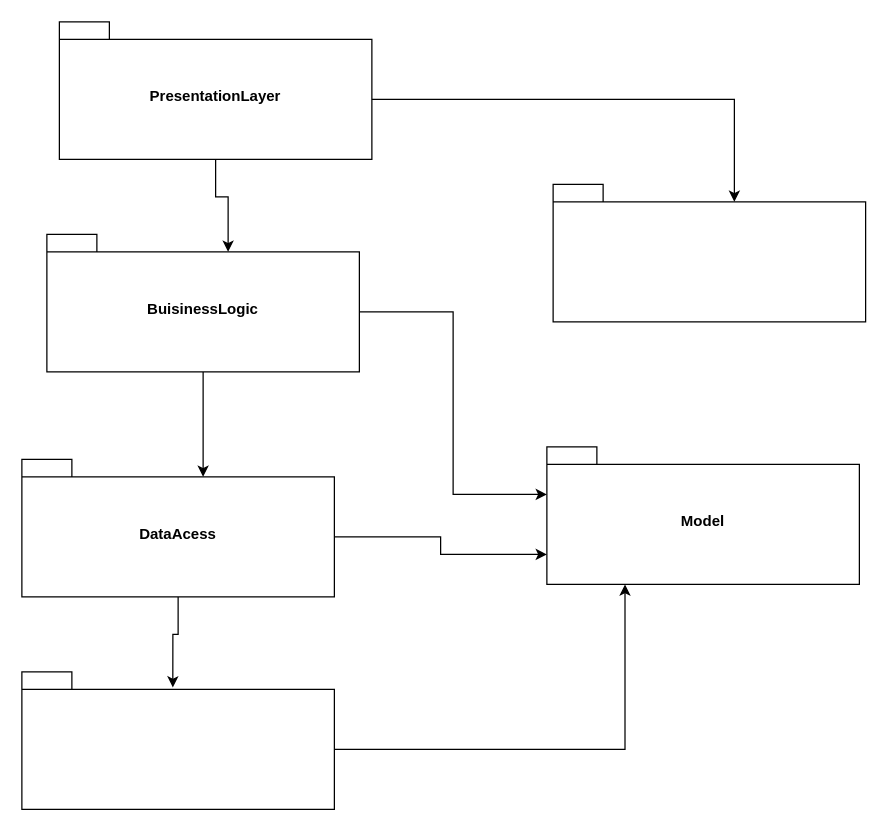
The diagram is 888 pixels wide and 831 high, and some of its shapes have lost their labels. Each missing label, with the box of its shape:
MySQLDatabase: (21, 671, 334, 809)
Utility: (552, 183, 866, 322)
